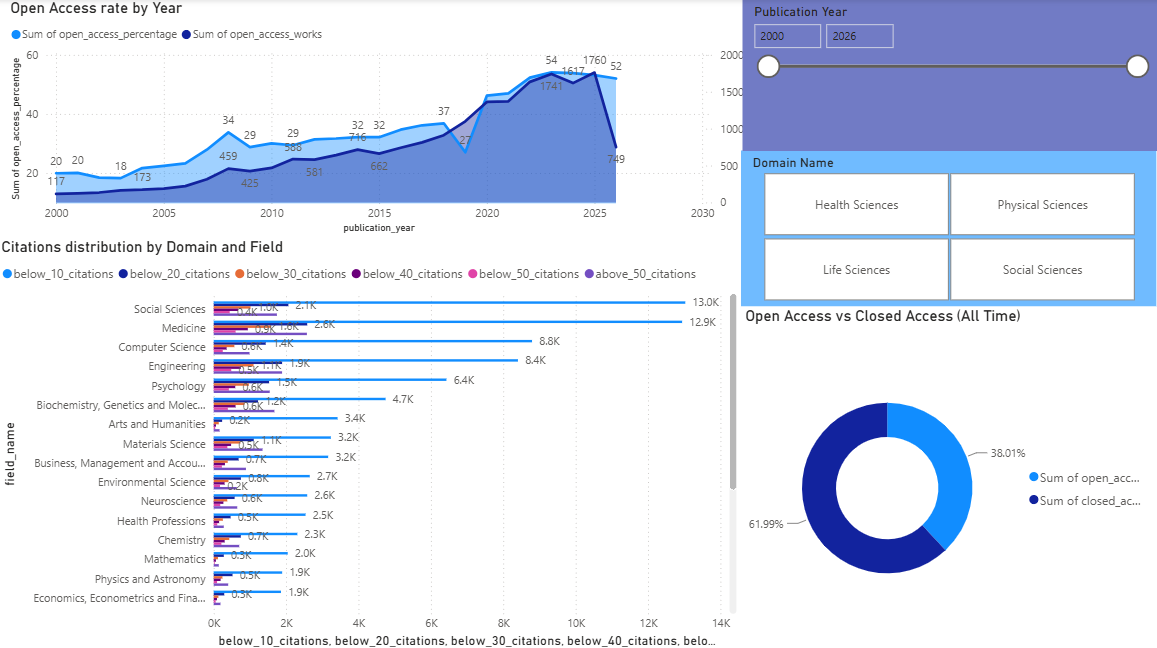

Layout of this report page (visuals, bound fields, positions):
{"tool":"powerbi","page":{"name":"Open Access and Citations Impact","canvas":[1280,720],"ordinal":1},"visuals":[{"type":"areaChart","title":"Open Access rate by Year","fields":{"Category":["open_access_stats.publication_year"],"Y":["Sum(open_access_stats.open_access_percentage)"],"Y2":["Sum(open_access_stats.open_access_works)"]},"box":[9.9,0,836.5,263.4],"z":0},{"type":"donutChart","title":"Open Access vs Closed Access (All Time)","fields":{"Y":["Sum(open_access_stats.open_access_works)","Sum(open_access_stats.closed_access_works)"]},"box":[821.6,339.6,457.2,381],"z":1000},{"type":"clusteredBarChart","title":"Citations distribution by Domain and Field","fields":{"Category":["domain_citations.field_name"],"Y":["Sum(domain_citations.below_10_citations)","Sum(domain_citations.below_20_citations)","Sum(domain_citations.below_30_citations)","Sum(domain_citations.below_40_citations)","Sum(domain_citations.below_50_citations)","Sum(domain_citations.above_50_citations)"]},"box":[0,263.4,821.6,457.2],"z":2000},{"type":"slicer","title":"Domain","fields":{"Values":["domain_citations.domain_name"]},"box":[821.6,167.3,458.8,172.3],"z":4000},{"type":"slicer","fields":{"Values":["open_access_stats.publication_year"]},"box":[823.3,0,457.2,167.3],"z":5000}]}

Visuals, with their boxes in screenshot pixels (x1, y1, x2, y2), scaled from the page's 1280x720 canvas onto the 1157x648 screenshot:
"Open Access rate by Year" areaChart: {"x1": 9, "y1": 0, "x2": 765, "y2": 237}
"Open Access vs Closed Access (All Time)" donutChart: {"x1": 743, "y1": 306, "x2": 1156, "y2": 647}
"Citations distribution by Domain and Field" clusteredBarChart: {"x1": 0, "y1": 237, "x2": 743, "y2": 647}
"Domain" slicer: {"x1": 743, "y1": 151, "x2": 1156, "y2": 306}
slicer - open_access_stats.publication_year: {"x1": 744, "y1": 0, "x2": 1156, "y2": 151}
